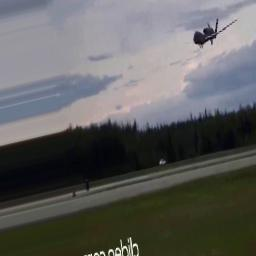ghawk: (191, 19, 243, 53)
